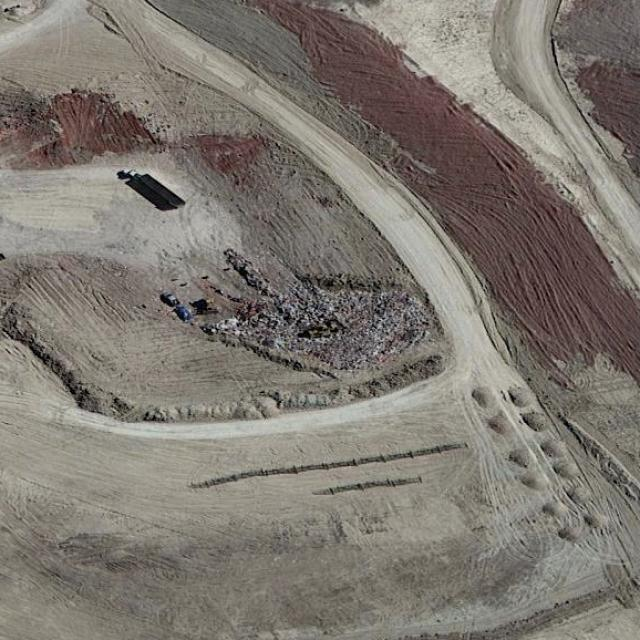dump_site: (199, 255, 441, 388)
